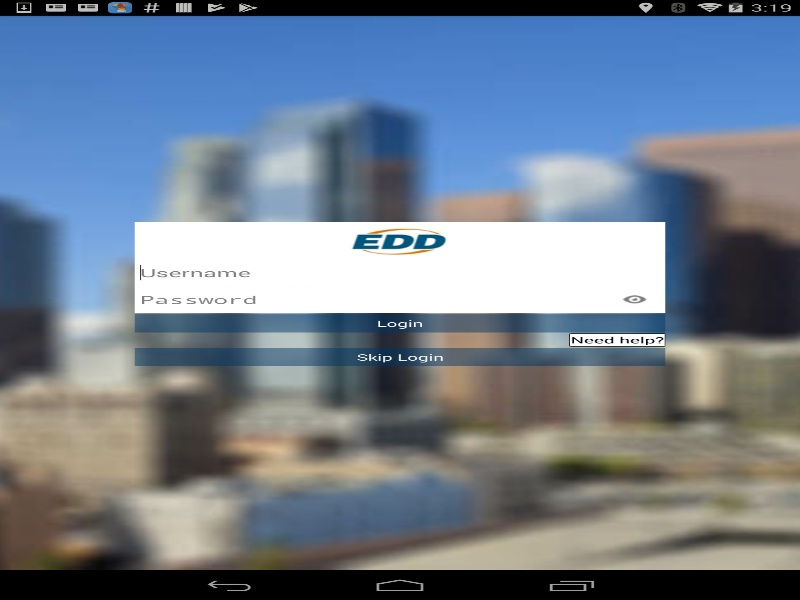Input: (134, 259, 665, 285), (134, 286, 665, 312)
